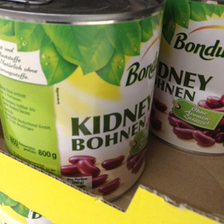beans: (2, 1, 165, 199), (167, 1, 224, 158)
